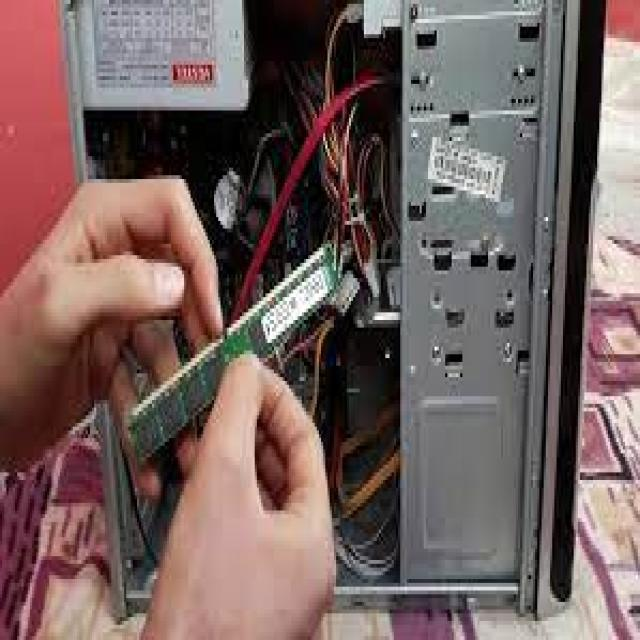Ram: (113, 252, 401, 446)
